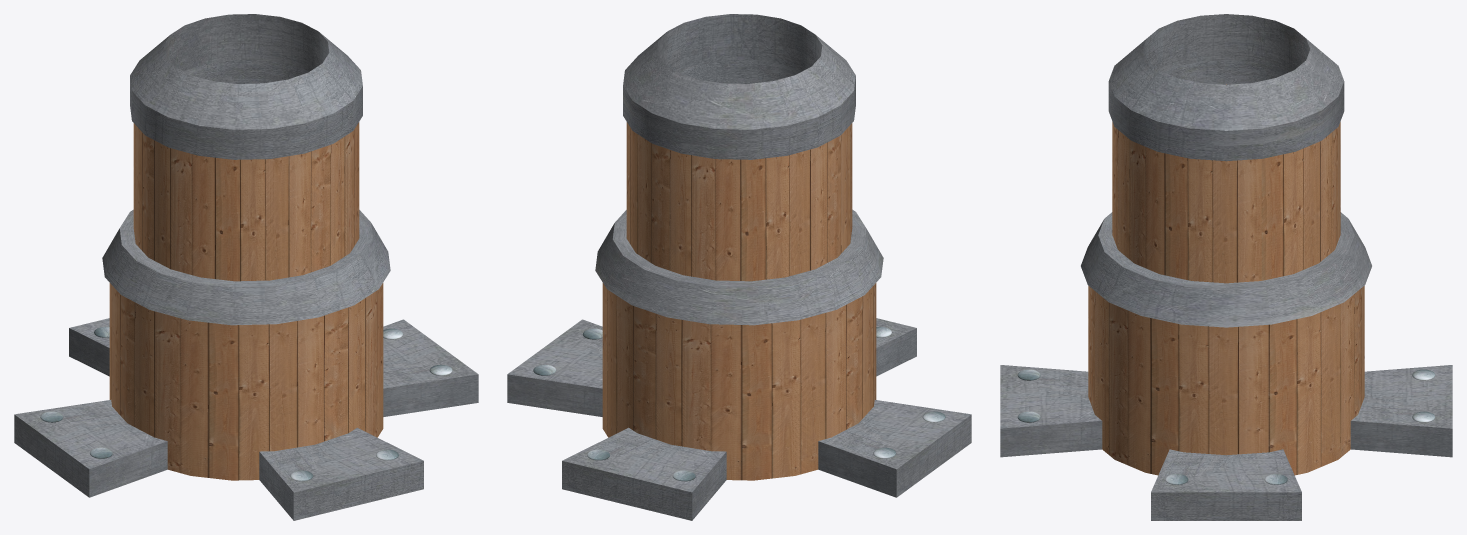
The model's file is ArtilleryBasic.fbx.
3 renders of one model, left to right at view 1: azimuth 30°, elevation 25°; view 2: azimuth 150°, elevation 25°; view 3: azimuth 270°, elevation 25°, orthographic.
Parts seen in each view (by area): view 1: MortarCannon1; view 2: MortarCannon1; view 3: MortarCannon1.
Boxes of the visible parts, x1,y1,x2,y2 form: MortarCannon1: (14,14,478,520); MortarCannon1: (507,14,971,520); MortarCannon1: (1000,14,1452,520).
Bounding box in the file's own units: 400 × 367 × 400.
Materials: 3 (3 with a texture image).
